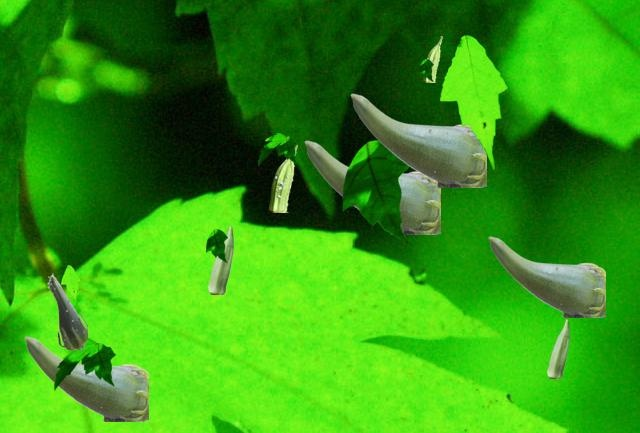okra: (304, 140, 439, 233), (350, 93, 485, 186), (24, 336, 147, 420), (488, 236, 604, 316), (47, 273, 86, 348), (269, 146, 296, 211), (208, 226, 232, 293), (547, 319, 568, 377), (423, 36, 441, 81)
